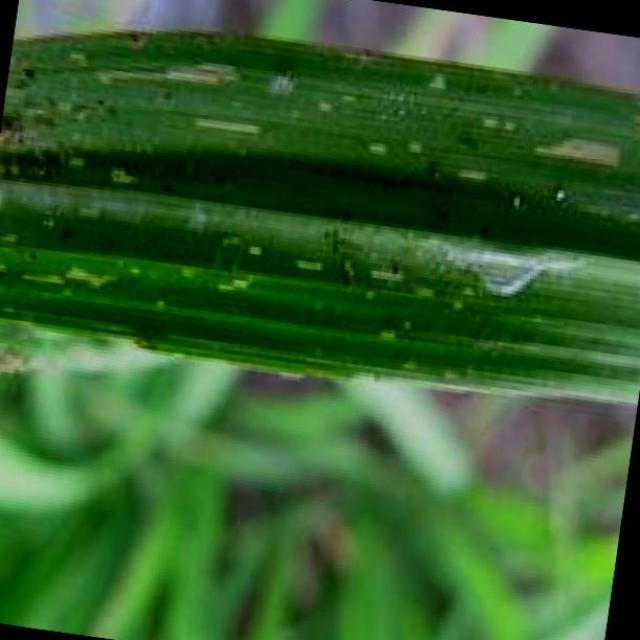leaf folder: (483, 268, 541, 296)
